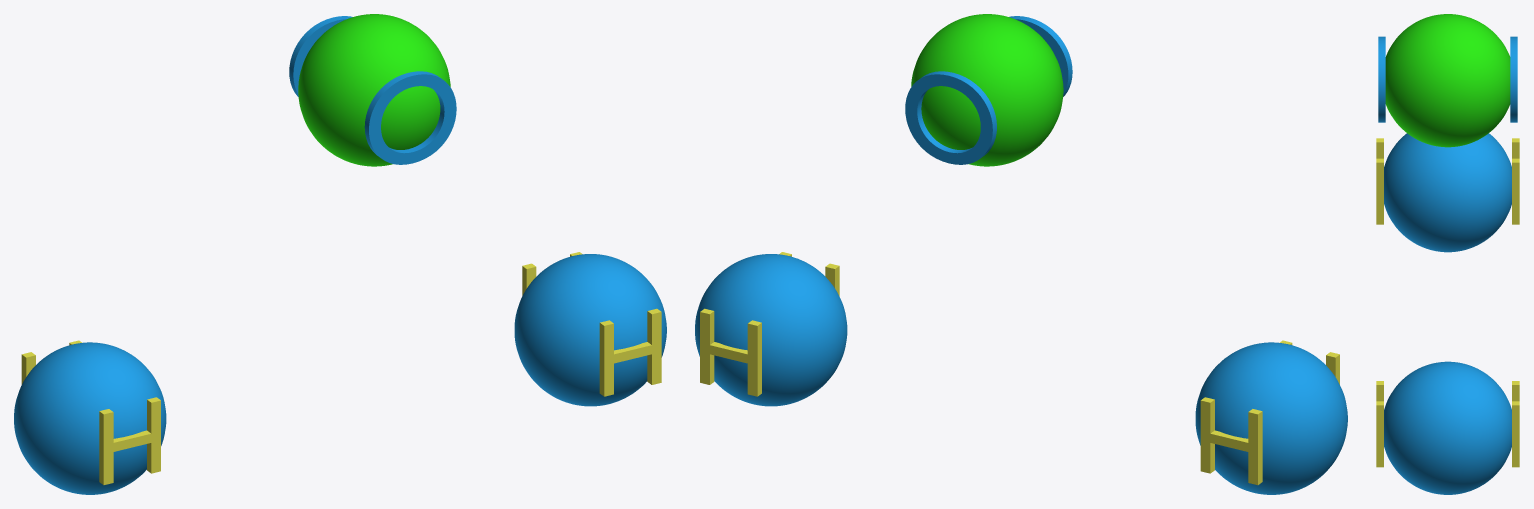
3 views of the same model, side by side, from view 1: azimuth 30°, elevation 25°; view 2: azimuth 150°, elevation 25°; view 3: azimuth 270°, elevation 25° (orthographic). The views are drawn at different scales.
Visible parts, largest first — view 1: Sphere; view 2: Sphere; view 3: Sphere.
Part boxes in pixels (x1=…): Sphere: x1=14, y1=14, x2=666, y2=494; Sphere: x1=695, y1=14, x2=1347, y2=494; Sphere: x1=1376, y1=14, x2=1519, y2=494.
Bounding box in the file's own units: 9.57 × 6.23 × 2.15.
